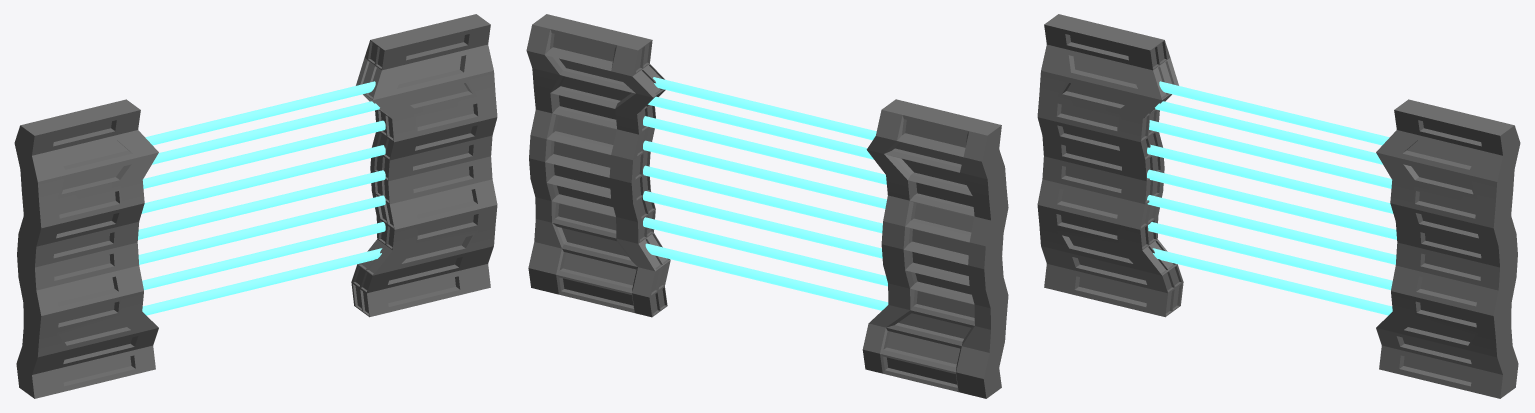
File: scifi_gate.glb
The picture shows the model from 3 angles, left to right: view 1: azimuth 30°, elevation 25°; view 2: azimuth 150°, elevation 25°; view 3: azimuth 330°, elevation 25°; orthographic projection.
Visible parts, largest first — view 1: Plane.000_9, Cylinder.014_4, Cylinder.015_5, Cylinder.016_6, Cylinder.012_2, Cylinder.013_3, Cylinder.017_7, Cylinder.011_1, Cylinder.018_8; view 2: Plane.000_9, Cylinder.016_6, Cylinder.012_2, Cylinder.013_3, Cylinder.014_4, Cylinder.015_5, Cylinder.017_7, Cylinder.011_1, Cylinder.018_8; view 3: Plane.000_9, Cylinder.014_4, Cylinder.015_5, Cylinder.013_3, Cylinder.016_6, Cylinder.012_2, Cylinder.017_7, Cylinder.011_1, Cylinder.018_8.
Boxes of the visible parts, box(x1,y1,x2,y2) form: Plane.000_9: box(14, 14, 497, 398); Cylinder.014_4: box(138, 170, 385, 239); Cylinder.015_5: box(138, 195, 385, 264); Cylinder.016_6: box(142, 222, 385, 290); Cylinder.012_2: box(142, 120, 385, 188); Cylinder.013_3: box(141, 145, 385, 213); Cylinder.017_7: box(142, 248, 382, 315); Cylinder.011_1: box(145, 81, 375, 145); Cylinder.018_8: box(152, 101, 379, 164); Plane.000_9: box(526, 14, 1008, 398); Cylinder.016_6: box(643, 217, 887, 286); Cylinder.012_2: box(643, 116, 886, 184); Cylinder.013_3: box(643, 140, 886, 208); Cylinder.014_4: box(643, 165, 882, 233); Cylinder.015_5: box(643, 191, 882, 258); Cylinder.017_7: box(645, 243, 888, 310); Cylinder.011_1: box(653, 77, 876, 140); Cylinder.018_8: box(648, 96, 873, 159); Plane.000_9: box(1037, 14, 1520, 398); Cylinder.014_4: box(1147, 169, 1396, 239); Cylinder.015_5: box(1147, 195, 1396, 264); Cylinder.013_3: box(1147, 144, 1393, 213); Cylinder.016_6: box(1148, 222, 1392, 290); Cylinder.012_2: box(1149, 120, 1392, 188); Cylinder.017_7: box(1152, 248, 1392, 315); Cylinder.011_1: box(1159, 81, 1389, 145); Cylinder.018_8: box(1155, 101, 1382, 164).
Bounding box in the file's own units: 5.67 × 3.12 × 0.5761.
